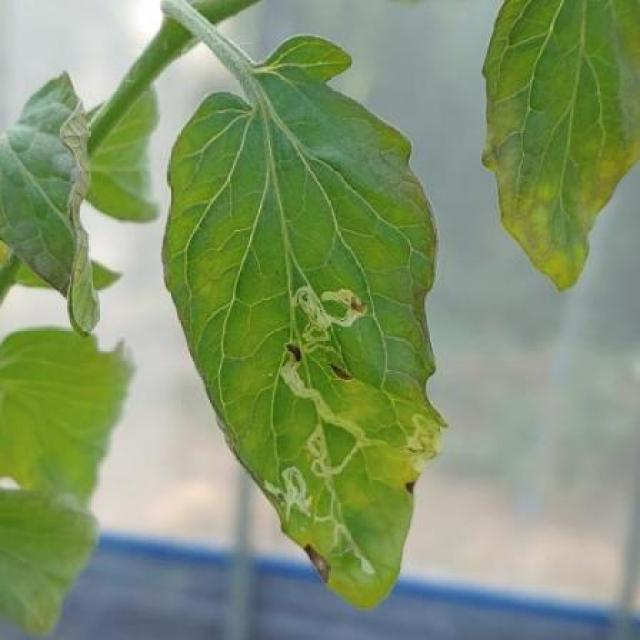Tuta absoluta: (257, 280, 399, 570)
